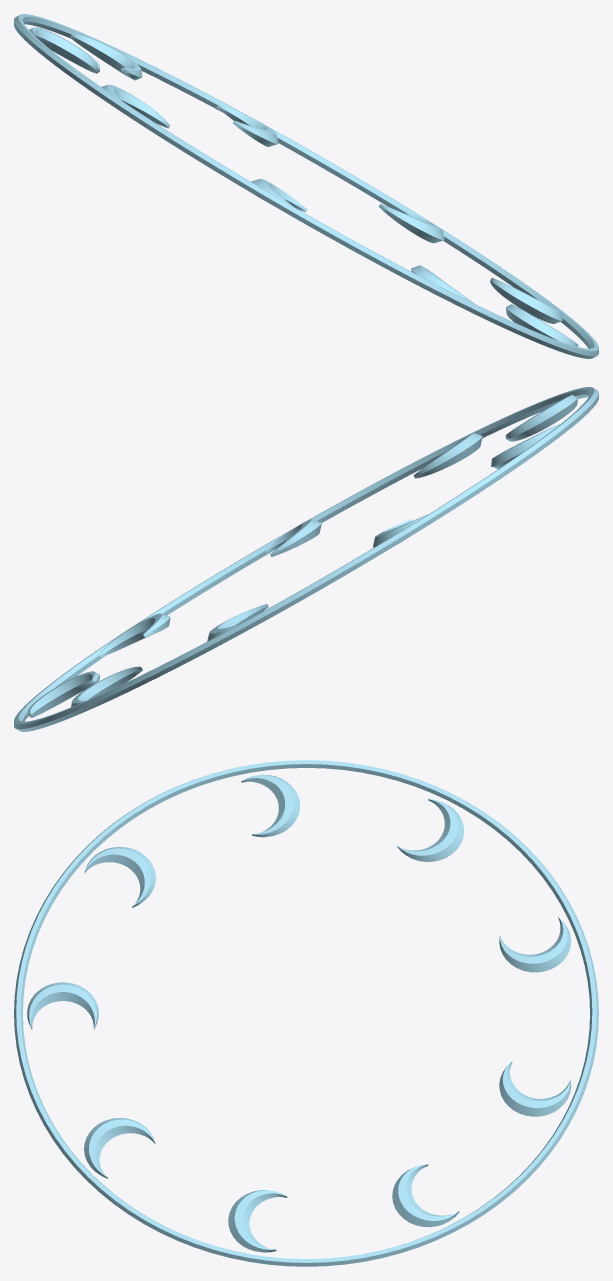
The model's file is MoonHalo.obj.
The picture shows the model from 3 angles, top to bottom: view 1: azimuth 30°, elevation 25°; view 2: azimuth 150°, elevation 25°; view 3: azimuth 270°, elevation 25°; orthographic projection. The views are drawn at different scales.
Parts seen in each view (by area): view 1: MoonHalo; view 2: MoonHalo; view 3: MoonHalo.
Part boxes in pixels (left/top/right/bottom): MoonHalo: left=14, top=14, right=598, bottom=358; MoonHalo: left=14, top=387, right=598, bottom=731; MoonHalo: left=14, top=760, right=598, bottom=1266.
Bounding box in the file's own units: 1.4 × 0.9895 × 1.71.
